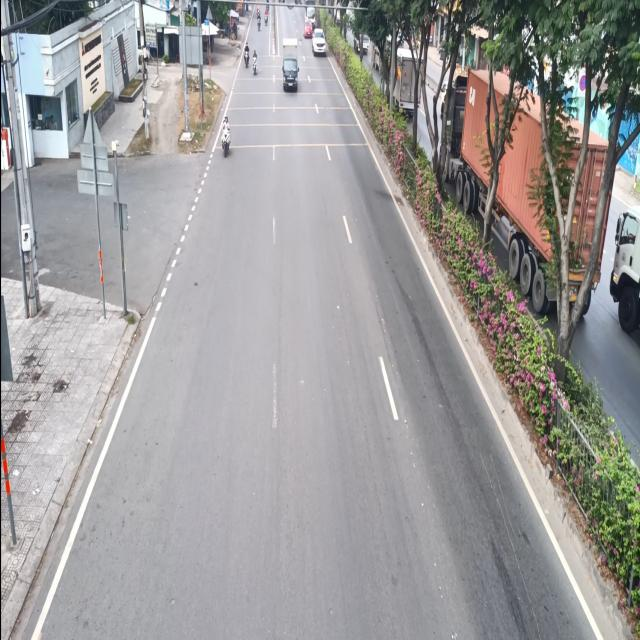car: (310, 24, 328, 56)
motorbike: (219, 107, 233, 159), (243, 39, 251, 69)
truck: (280, 34, 302, 98)
